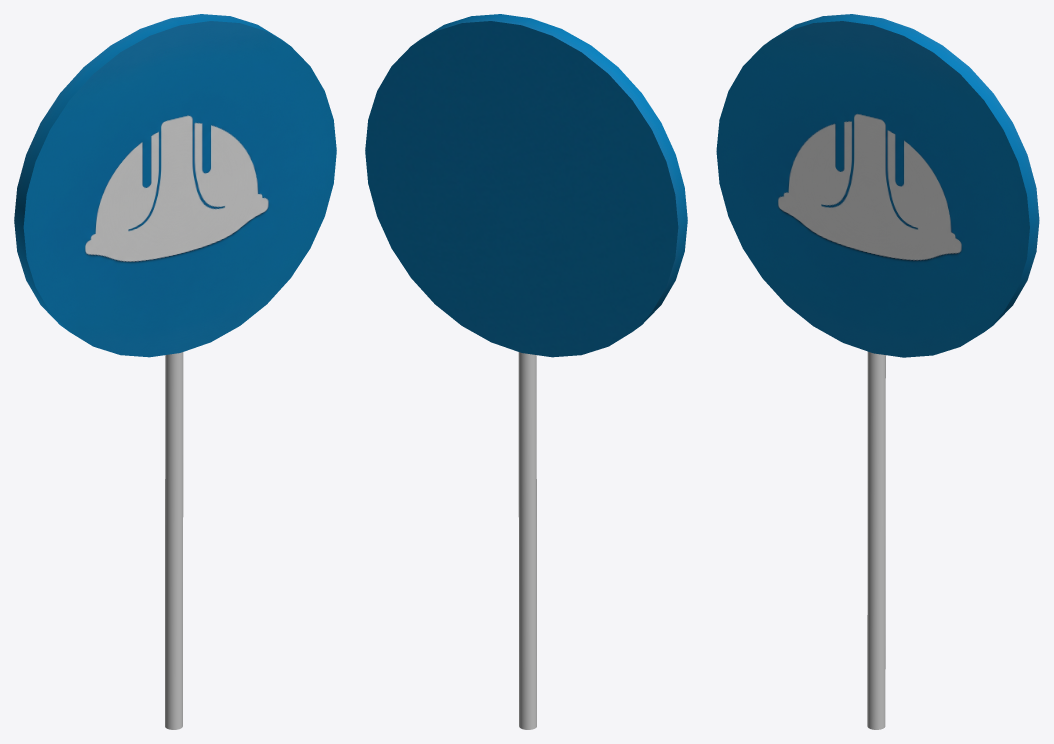
The model's file is CascoSenal.fbx.
3 views of the same model, side by side, from view 1: azimuth 30°, elevation 25°; view 2: azimuth 150°, elevation 25°; view 3: azimuth 330°, elevation 25° (orthographic).
Visible parts, largest first — view 1: Cylinder.001; view 2: Cylinder.001; view 3: Cylinder.001.
Part boxes in pixels (x1,y1,x2,y2): Cylinder.001: [14, 14, 336, 729]; Cylinder.001: [365, 14, 687, 729]; Cylinder.001: [716, 14, 1039, 729].
Size of the model in its own units: 200 by 430 by 10.5.
Materials: 2 (1 with a texture image).
